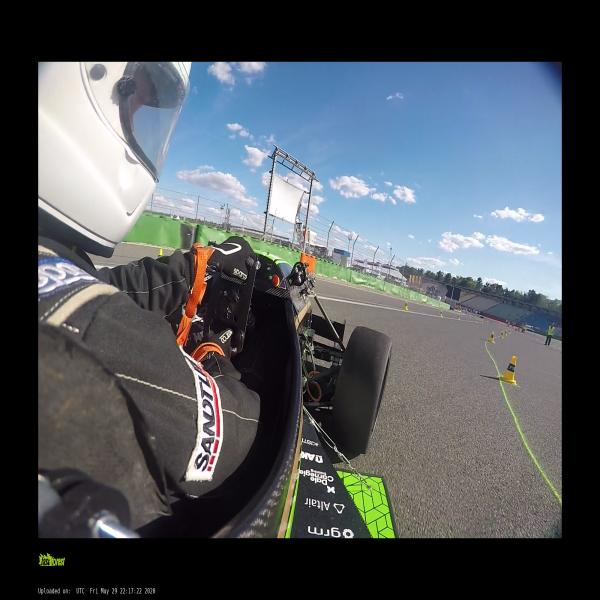yellow_cone: (501, 354, 517, 384), (487, 332, 495, 343), (403, 301, 408, 310), (158, 249, 163, 258), (456, 314, 460, 320), (500, 332, 503, 338), (439, 310, 442, 316), (504, 331, 507, 336), (508, 329, 511, 334), (475, 318, 477, 323), (486, 321, 488, 325)
